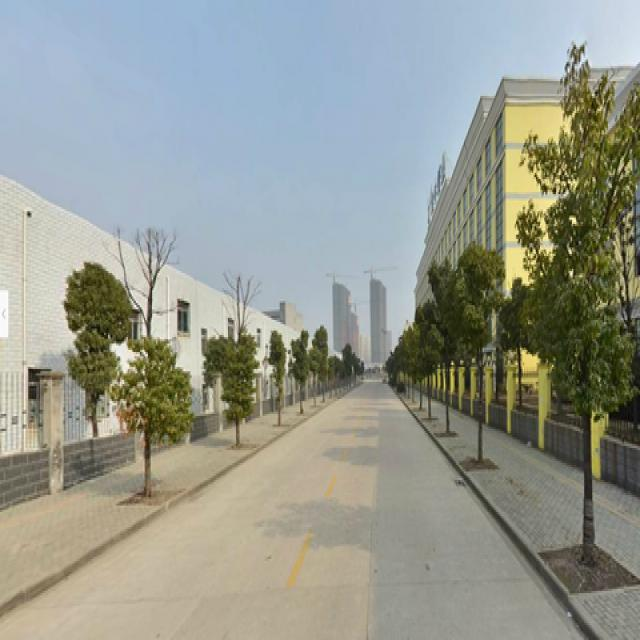cinn: (541, 92, 624, 557), (127, 234, 185, 488), (460, 258, 500, 474), (222, 271, 266, 450), (427, 264, 452, 438), (291, 330, 309, 410)
